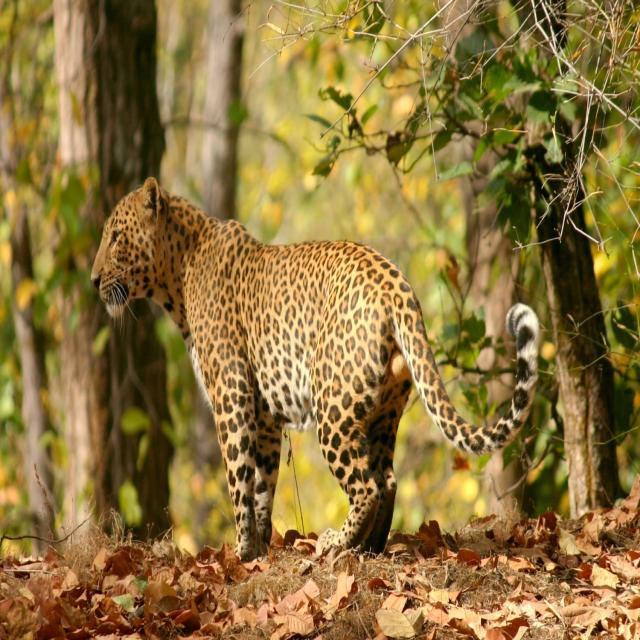Leopard: (91, 184, 539, 556)
